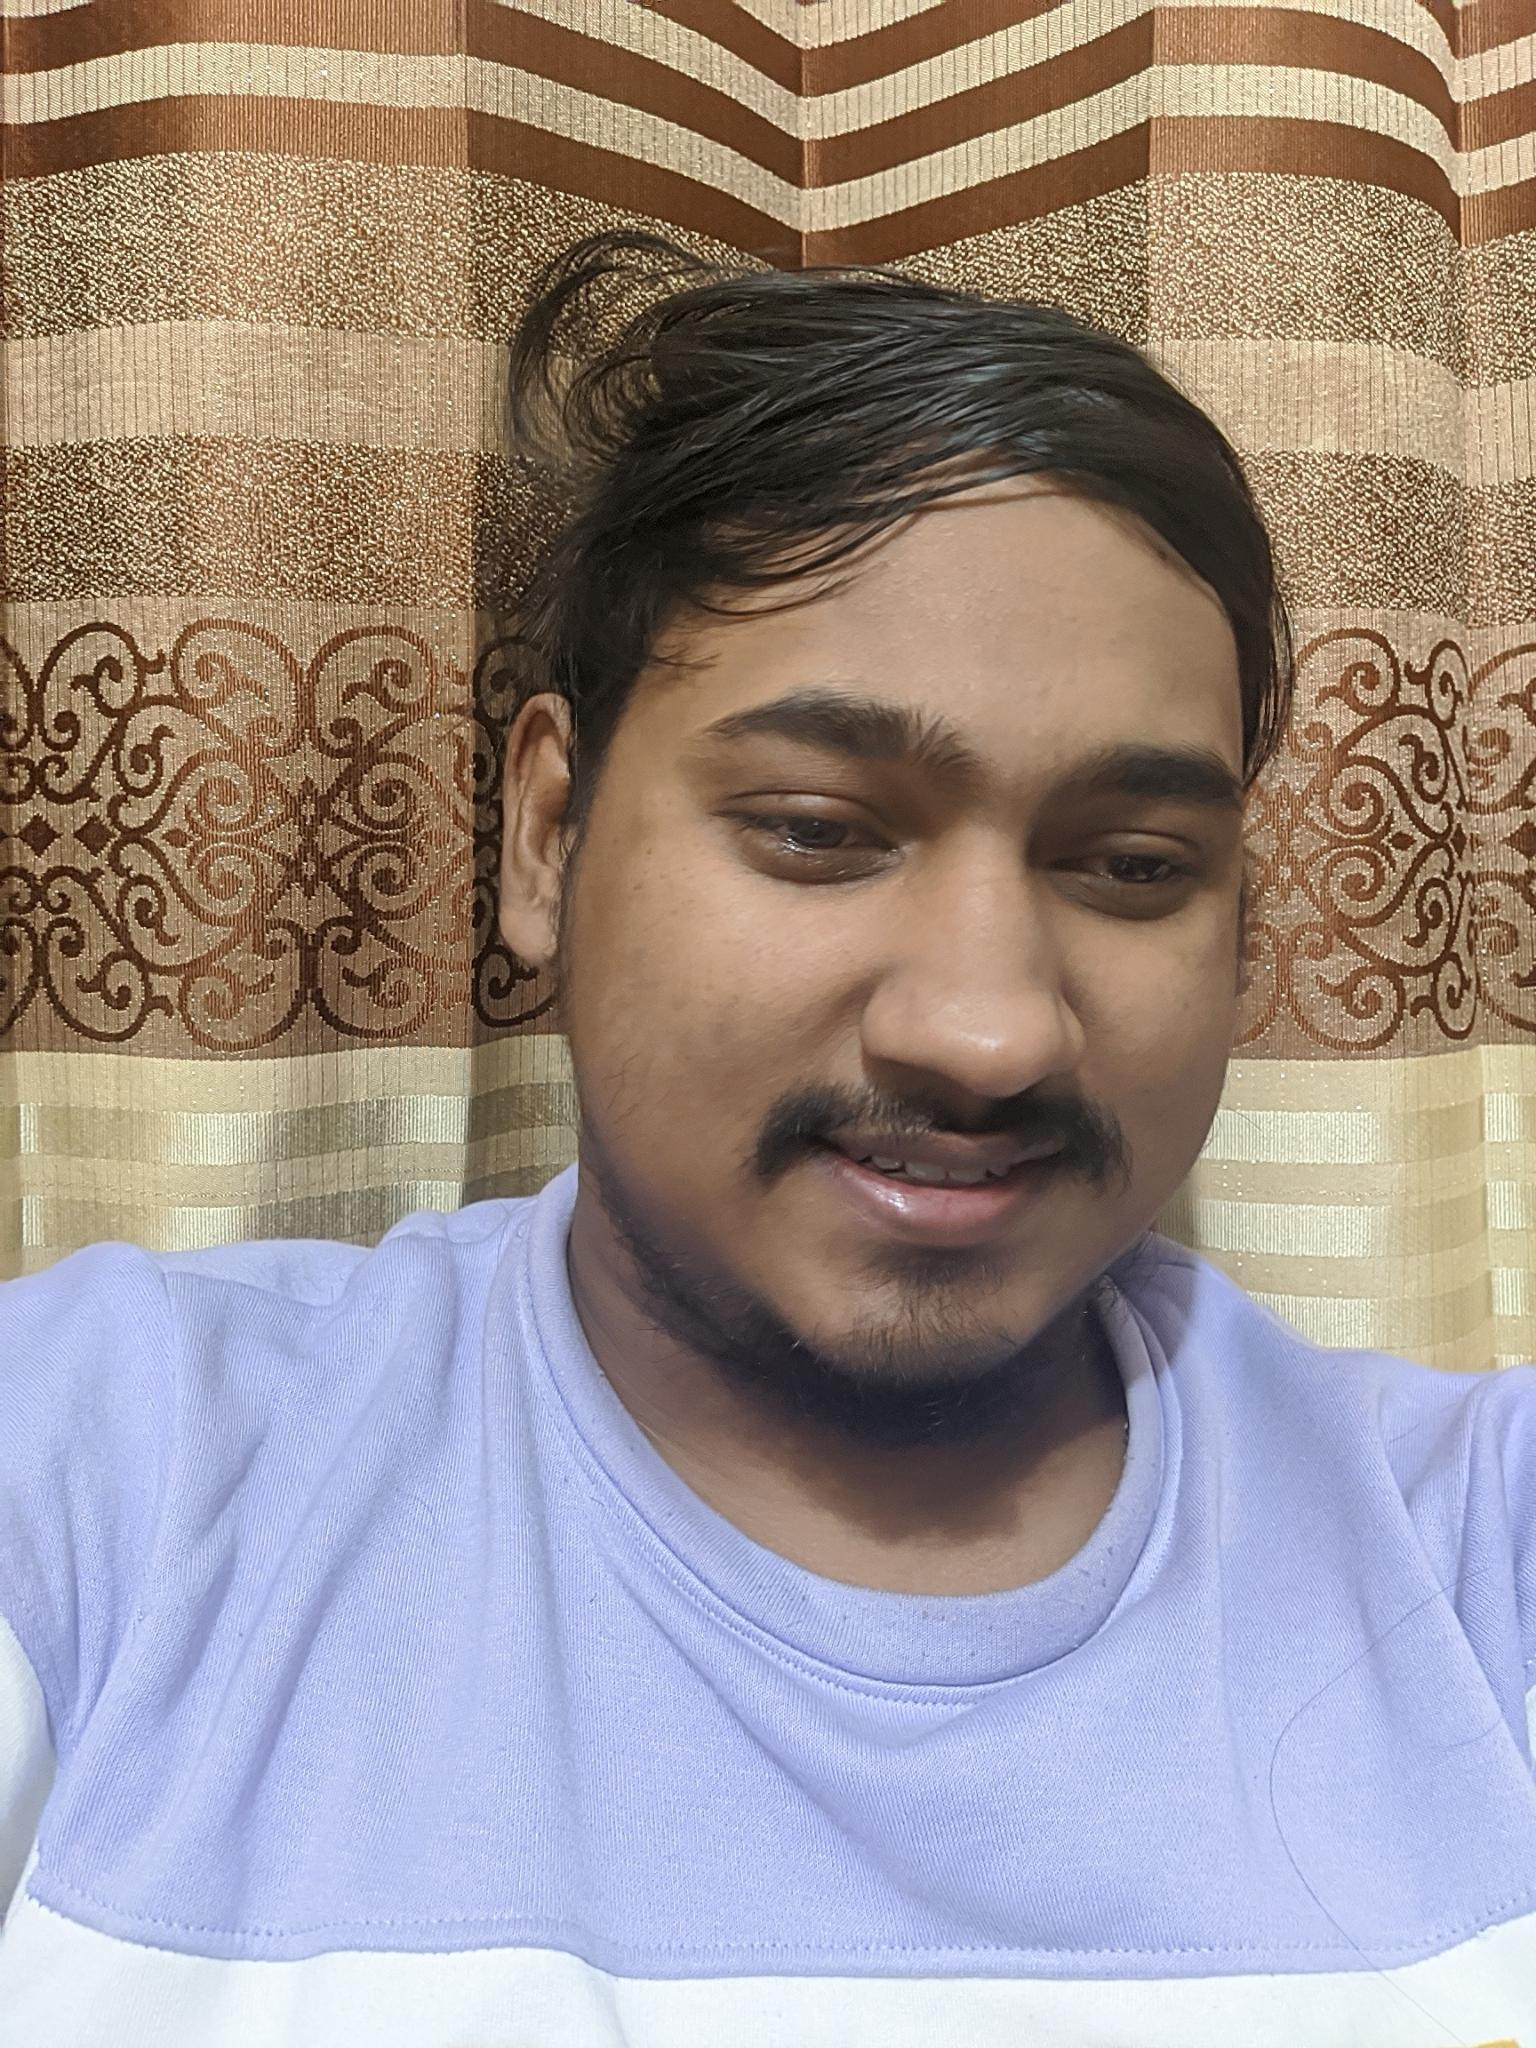Happy: (623, 584, 1268, 1414)
